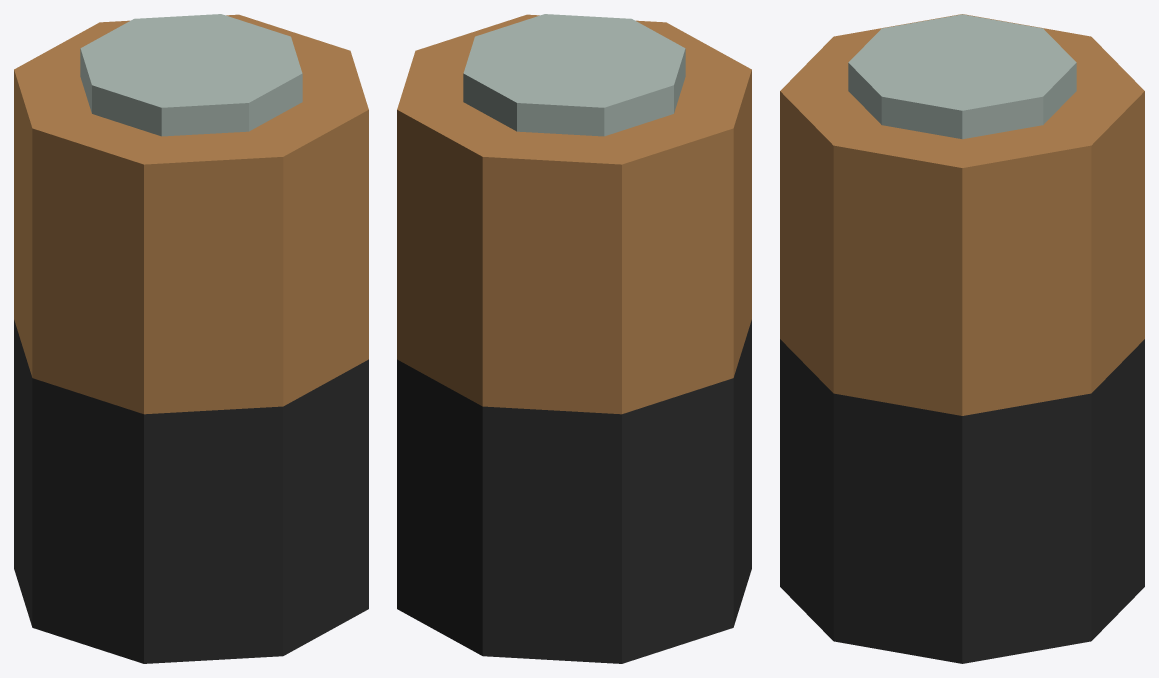
File: Battery.glb
3 views of the same model, side by side, from view 1: azimuth 30°, elevation 25°; view 2: azimuth 150°, elevation 25°; view 3: azimuth 270°, elevation 25° (orthographic).
Visible parts, largest first — view 1: Cylinder; view 2: Cylinder; view 3: Cylinder.
Part boxes in pixels (<box>): Cylinder: <box>14,14,368,663</box>; Cylinder: <box>397,14,751,663</box>; Cylinder: <box>780,14,1144,663</box>.
Size of the model in its own units: 2 by 3.17 by 2.
